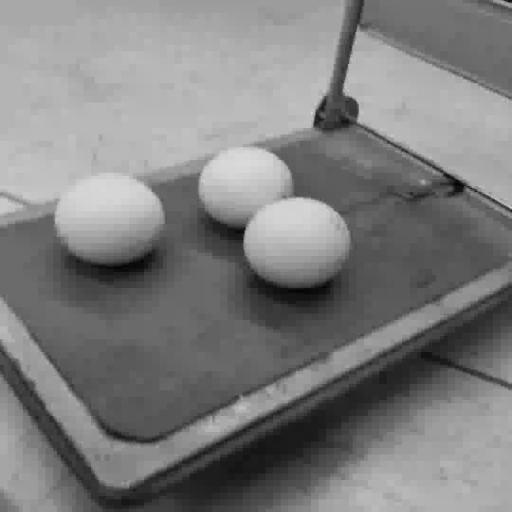fuel: (55, 174, 164, 265), (244, 197, 350, 288), (199, 148, 293, 228)
